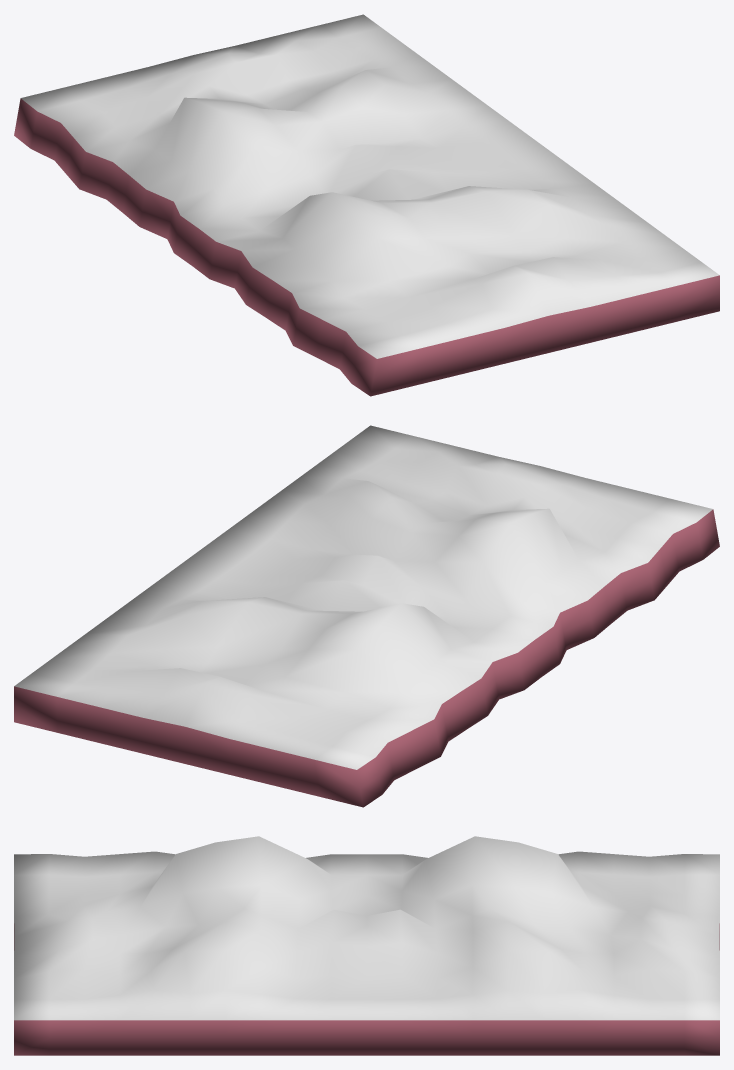
The picture shows the model from 3 angles, top to bottom: view 1: azimuth 30°, elevation 25°; view 2: azimuth 150°, elevation 25°; view 3: azimuth 270°, elevation 25°; orthographic projection.
Parts seen in each view (by area): view 1: Plane; view 2: Plane; view 3: Plane.
Boxes of the visible parts, bbox=[...] form: Plane: bbox=[14, 14, 719, 396]; Plane: bbox=[14, 425, 719, 807]; Plane: bbox=[14, 836, 719, 1055].
Bounding box in the file's own units: 1037 × 259 × 1800.
